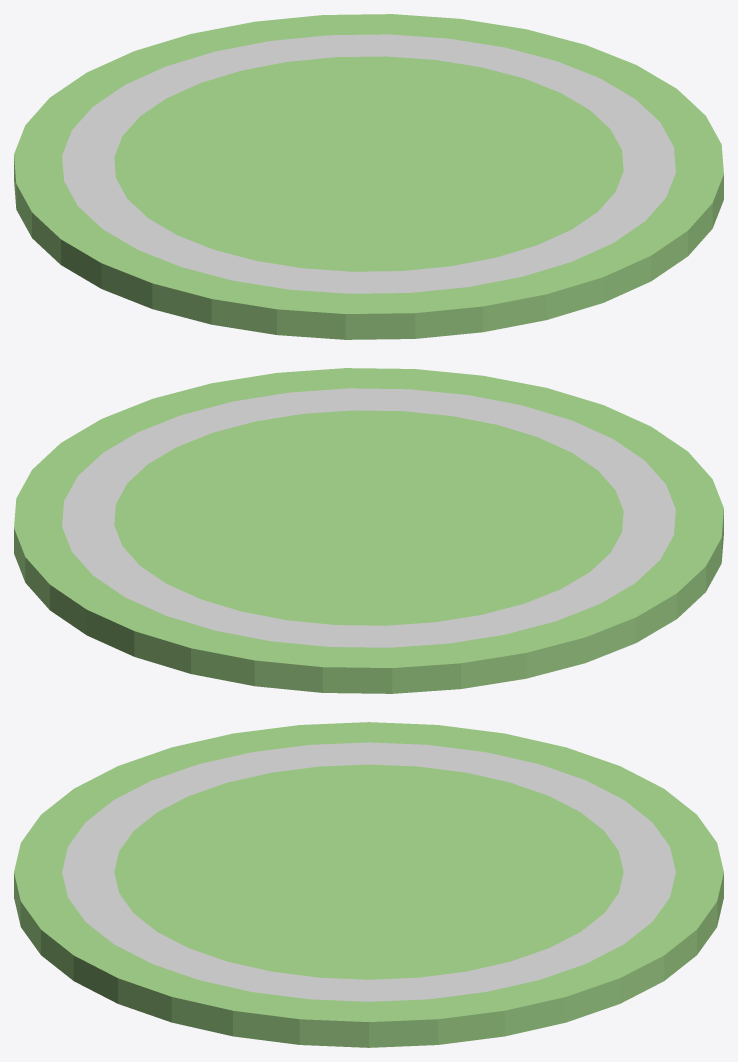
The model's file is agg_teleporter.gltf.
3 views of the same model, one above another, from view 1: azimuth 30°, elevation 25°; view 2: azimuth 150°, elevation 25°; view 3: azimuth 270°, elevation 25° (orthographic).
Visible parts, largest first — view 1: Cylinder; view 2: Cylinder; view 3: Cylinder.
Boxes of the visible parts, bbox=[...] form: Cylinder: bbox=[14, 14, 723, 339]; Cylinder: bbox=[14, 368, 723, 693]; Cylinder: bbox=[14, 722, 723, 1047].
Bounding box in the file's own units: 1 × 0.04 × 1.
